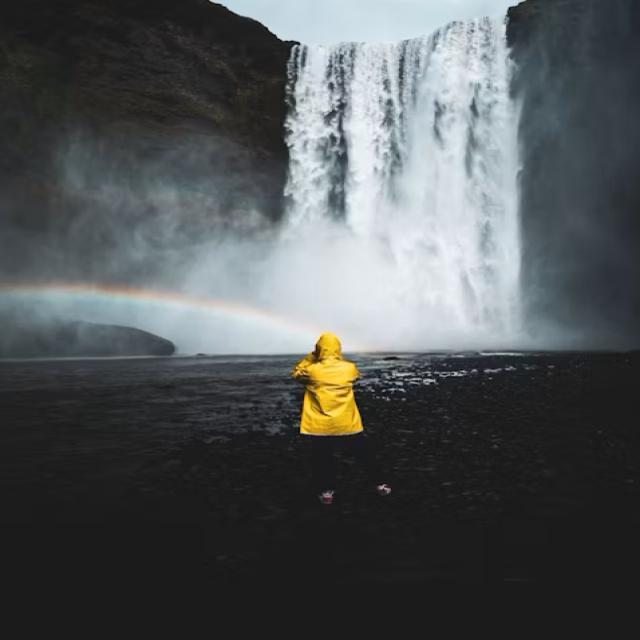Edited images: (272, 319, 425, 547)
